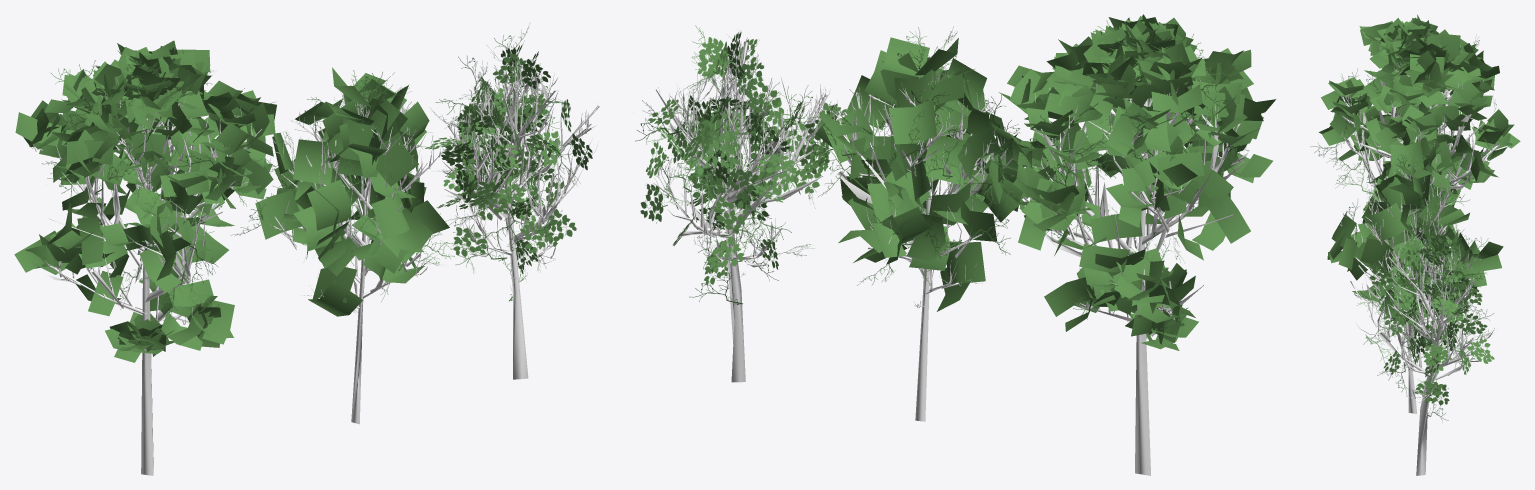
Rendered from meadow-birch.glb.
3 views of the same model, side by side, from view 1: azimuth 30°, elevation 25°; view 2: azimuth 150°, elevation 25°; view 3: azimuth 270°, elevation 25° (orthographic). The views are drawn at different scales.
Visible parts, largest first — view 1: birchtree1; view 2: birchtree1; view 3: birchtree1.
Part boxes in pixels (x1,y1,x2,y2): birchtree1: [14, 24, 599, 475]; birchtree1: [635, 14, 1276, 475]; birchtree1: [1310, 14, 1520, 475].
Bounding box in the file's own units: 6.44 × 4.61 × 2.87.
6 materials, 6 textured.
